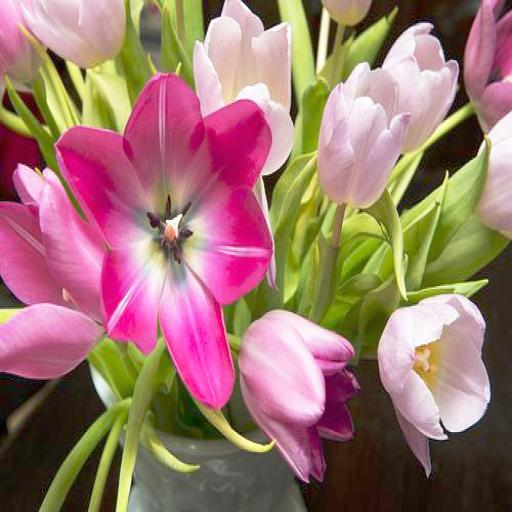tulip: (54, 69, 274, 409), (240, 308, 360, 484), (377, 291, 491, 438), (316, 60, 410, 209)
